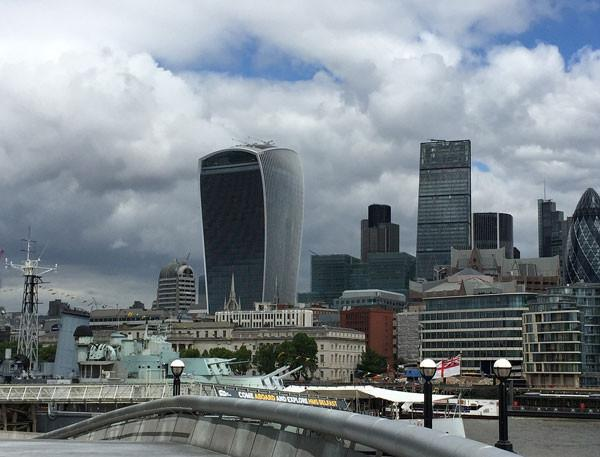Walkie talkie: (195, 139, 310, 303)
